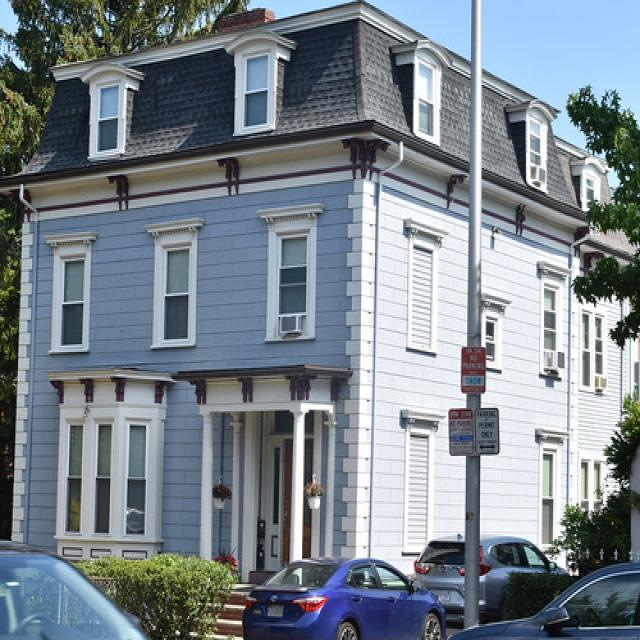Normal_building: (0, 0, 639, 603)
